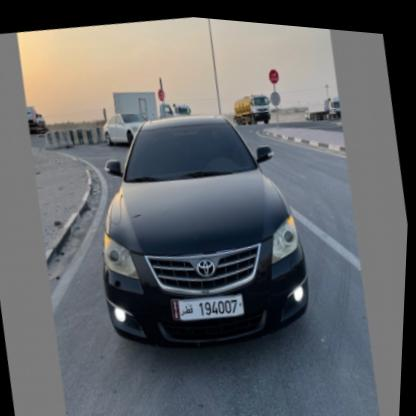np: (169, 279, 250, 323)
